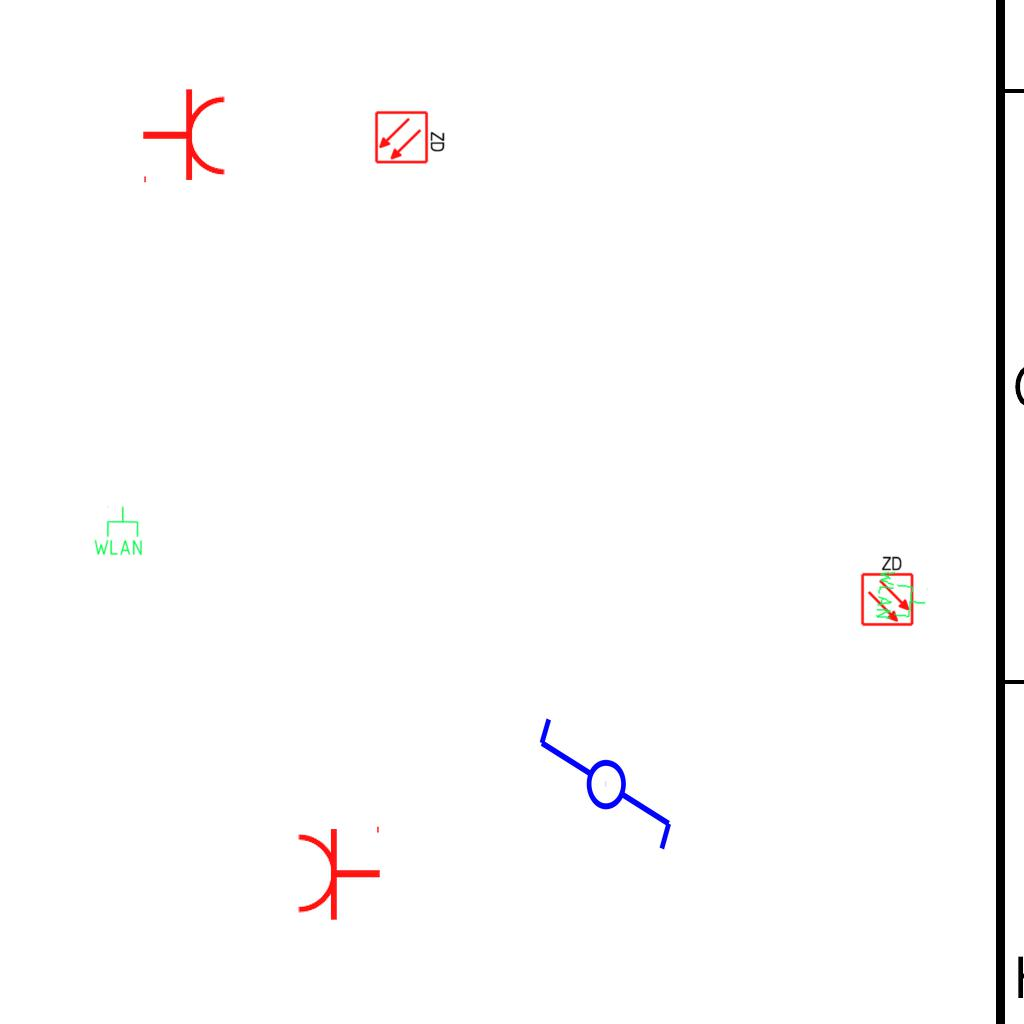Schukosteckdose_einfach: (141, 87, 228, 187), (295, 822, 382, 922)
WLAN: (873, 567, 931, 625), (92, 505, 144, 557)
Wechselschalter: (532, 714, 676, 871)
ZD_Melder_in_Zwischendecke_mit_Revisionsoeffnung_mind_40_x_40_cm: (858, 553, 915, 627), (374, 108, 448, 165)
